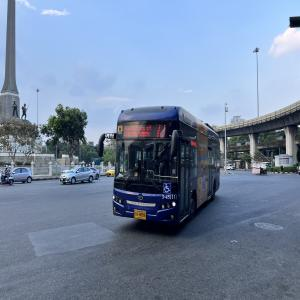Bus Line Number: (154, 120, 168, 141)
Bus Side Number: (160, 193, 178, 201)
Destination Sign: (122, 122, 153, 140)
TSB-Bus: (112, 106, 221, 229)
